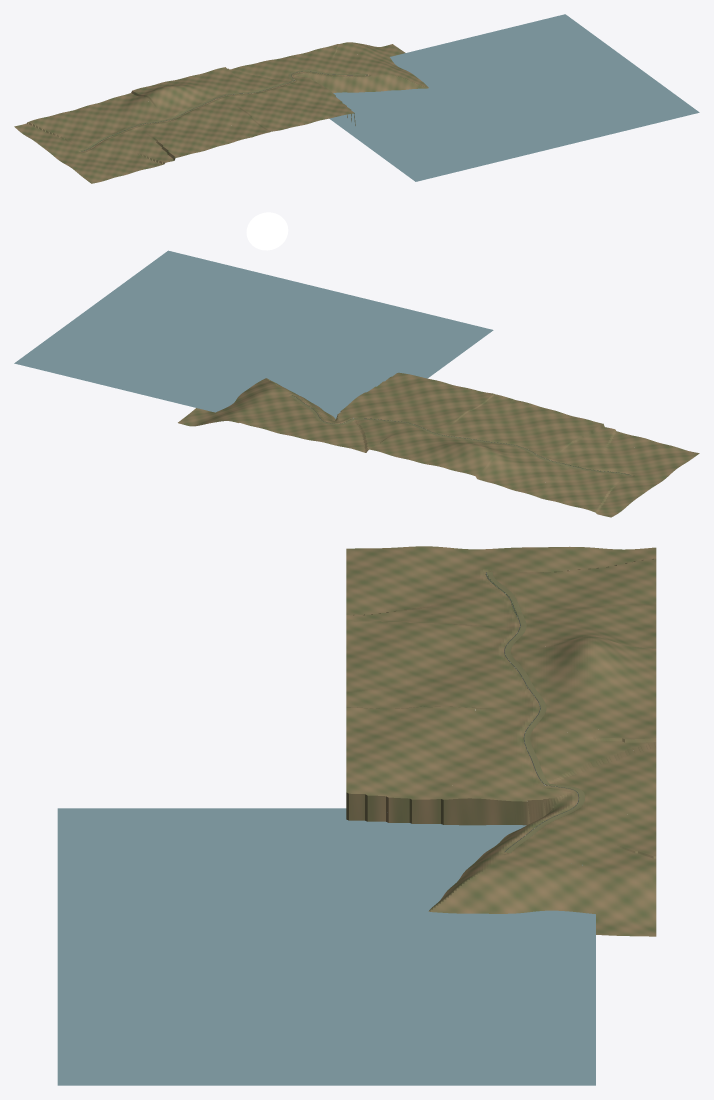
File: isleofman.glb
The picture shows the model from 3 angles, top to bottom: view 1: azimuth 30°, elevation 25°; view 2: azimuth 150°, elevation 25°; view 3: azimuth 270°, elevation 25°; orthographic projection. The views are drawn at different scales.
Visible parts, largest first — view 1: Land_008, ManxMoor_000, ManxMoor_035, ManxMoor_020, ManxMoor_010, ManxMoor_021, ManxMoor_011, ManxMoor_002, ManxMoor_005, ManxMoor_009, ManxMoor_003, ManxMoor_012 (+24 smaller); view 2: Land_008, ManxMoor_000, ManxMoor_035, Sun, ManxMoor_020, ManxMoor_010, ManxMoor_021, ManxMoor_011, ManxMoor_007, ManxMoor_008, ManxMoor_005, ManxMoor_009 (+21 smaller); view 3: Land_008, ManxMoor_035, ManxMoor_000, ManxMoor_025, ManxMoor_020, ManxMoor_021, ManxMoor_024, ManxMoor_010, ManxMoor_022, ManxMoor_014, ManxMoor_027, ManxMoor_011 (+25 smaller).
Boxes of the visible parts, x1=… form: Land_008: x1=329, y1=14, x2=699, y2=181; ManxMoor_000: x1=14, y1=122, x2=143, y2=183; ManxMoor_035: x1=358, y1=43, x2=428, y2=91; ManxMoor_020: x1=238, y1=78, x2=297, y2=131; ManxMoor_010: x1=154, y1=104, x2=220, y2=154; ManxMoor_021: x1=237, y1=77, x2=322, y2=125; ManxMoor_011: x1=150, y1=97, x2=245, y2=145; ManxMoor_002: x1=28, y1=118, x2=161, y2=163; ManxMoor_005: x1=73, y1=108, x2=175, y2=161; ManxMoor_009: x1=145, y1=95, x2=189, y2=158; ManxMoor_003: x1=41, y1=113, x2=148, y2=158; ManxMoor_012: x1=132, y1=90, x2=253, y2=138; Land_008: x1=14, y1=250, x2=493, y2=418; ManxMoor_000: x1=595, y1=437, x2=699, y2=517; ManxMoor_035: x1=178, y1=378, x2=307, y2=426; Sun: x1=246, y1=212, x2=288, y2=250; ManxMoor_020: x1=387, y1=387, x2=494, y2=438; ManxMoor_010: x1=502, y1=409, x2=587, y2=454; ManxMoor_021: x1=382, y1=380, x2=462, y2=440; ManxMoor_011: x1=495, y1=401, x2=550, y2=454; ManxMoor_007: x1=487, y1=442, x2=571, y2=490; ManxMoor_008: x1=476, y1=436, x2=582, y2=481; ManxMoor_005: x1=535, y1=424, x2=609, y2=498; ManxMoor_009: x1=492, y1=419, x2=603, y2=458; Land_008: x1=57, y1=808, x2=595, y2=1085; ManxMoor_035: x1=428, y1=851, x2=656, y2=936; ManxMoor_000: x1=346, y1=546, x2=656, y2=596; ManxMoor_025: x1=370, y1=774, x2=564, y2=825; ManxMoor_020: x1=346, y1=707, x2=598, y2=738; ManxMoor_021: x1=346, y1=734, x2=608, y2=759; ManxMoor_024: x1=346, y1=763, x2=590, y2=820; ManxMoor_010: x1=346, y1=633, x2=559, y2=662; ManxMoor_022: x1=346, y1=739, x2=656, y2=771; ManxMoor_014: x1=346, y1=651, x2=656, y2=703; ManxMoor_027: x1=561, y1=743, x2=656, y2=798; ManxMoor_011: x1=346, y1=636, x2=584, y2=684.
Size of the model in its own units: 14150 by 2003 by 6840.
